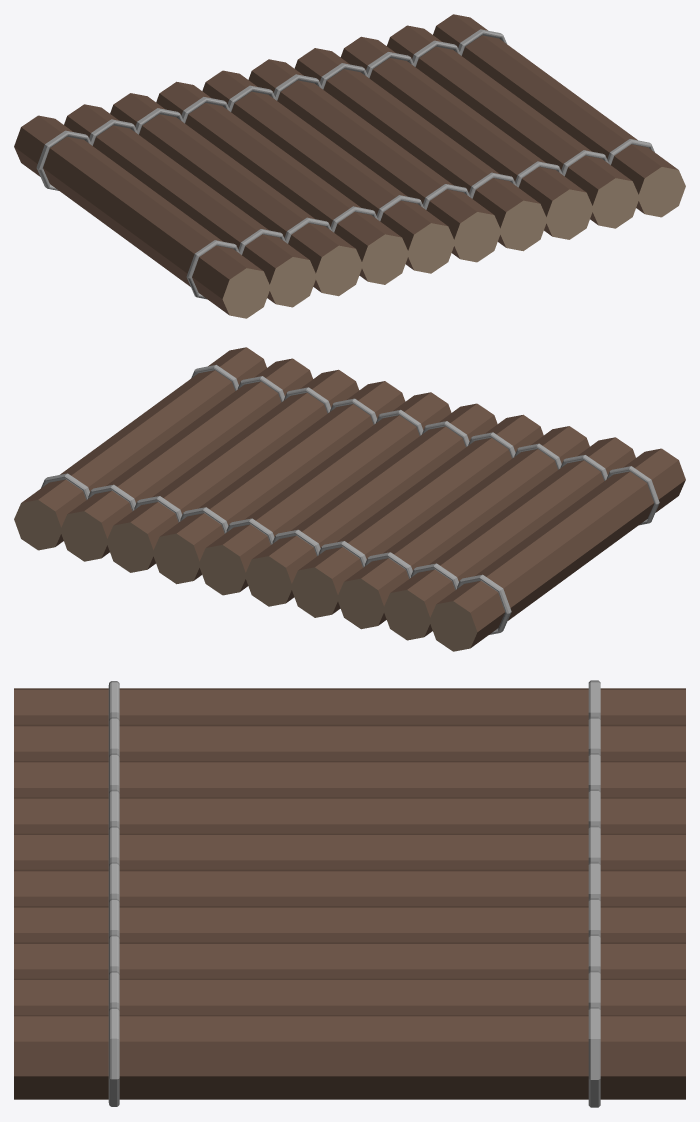
Rendered from Raft.fbx.
3 renders of one model, top to bottom at view 1: azimuth 30°, elevation 25°; view 2: azimuth 150°, elevation 25°; view 3: azimuth 270°, elevation 25°, orthographic. The views are drawn at different scales.
Visible parts, largest first — view 1: Raft; view 2: Raft; view 3: Raft.
Part boxes in pixels (box(x1,y1,x2,y2)): Raft: box(14, 14, 685, 318); Raft: box(14, 347, 685, 651); Raft: box(14, 680, 685, 1107).
Size of the model in its own units: 531 by 64.66 by 406.
